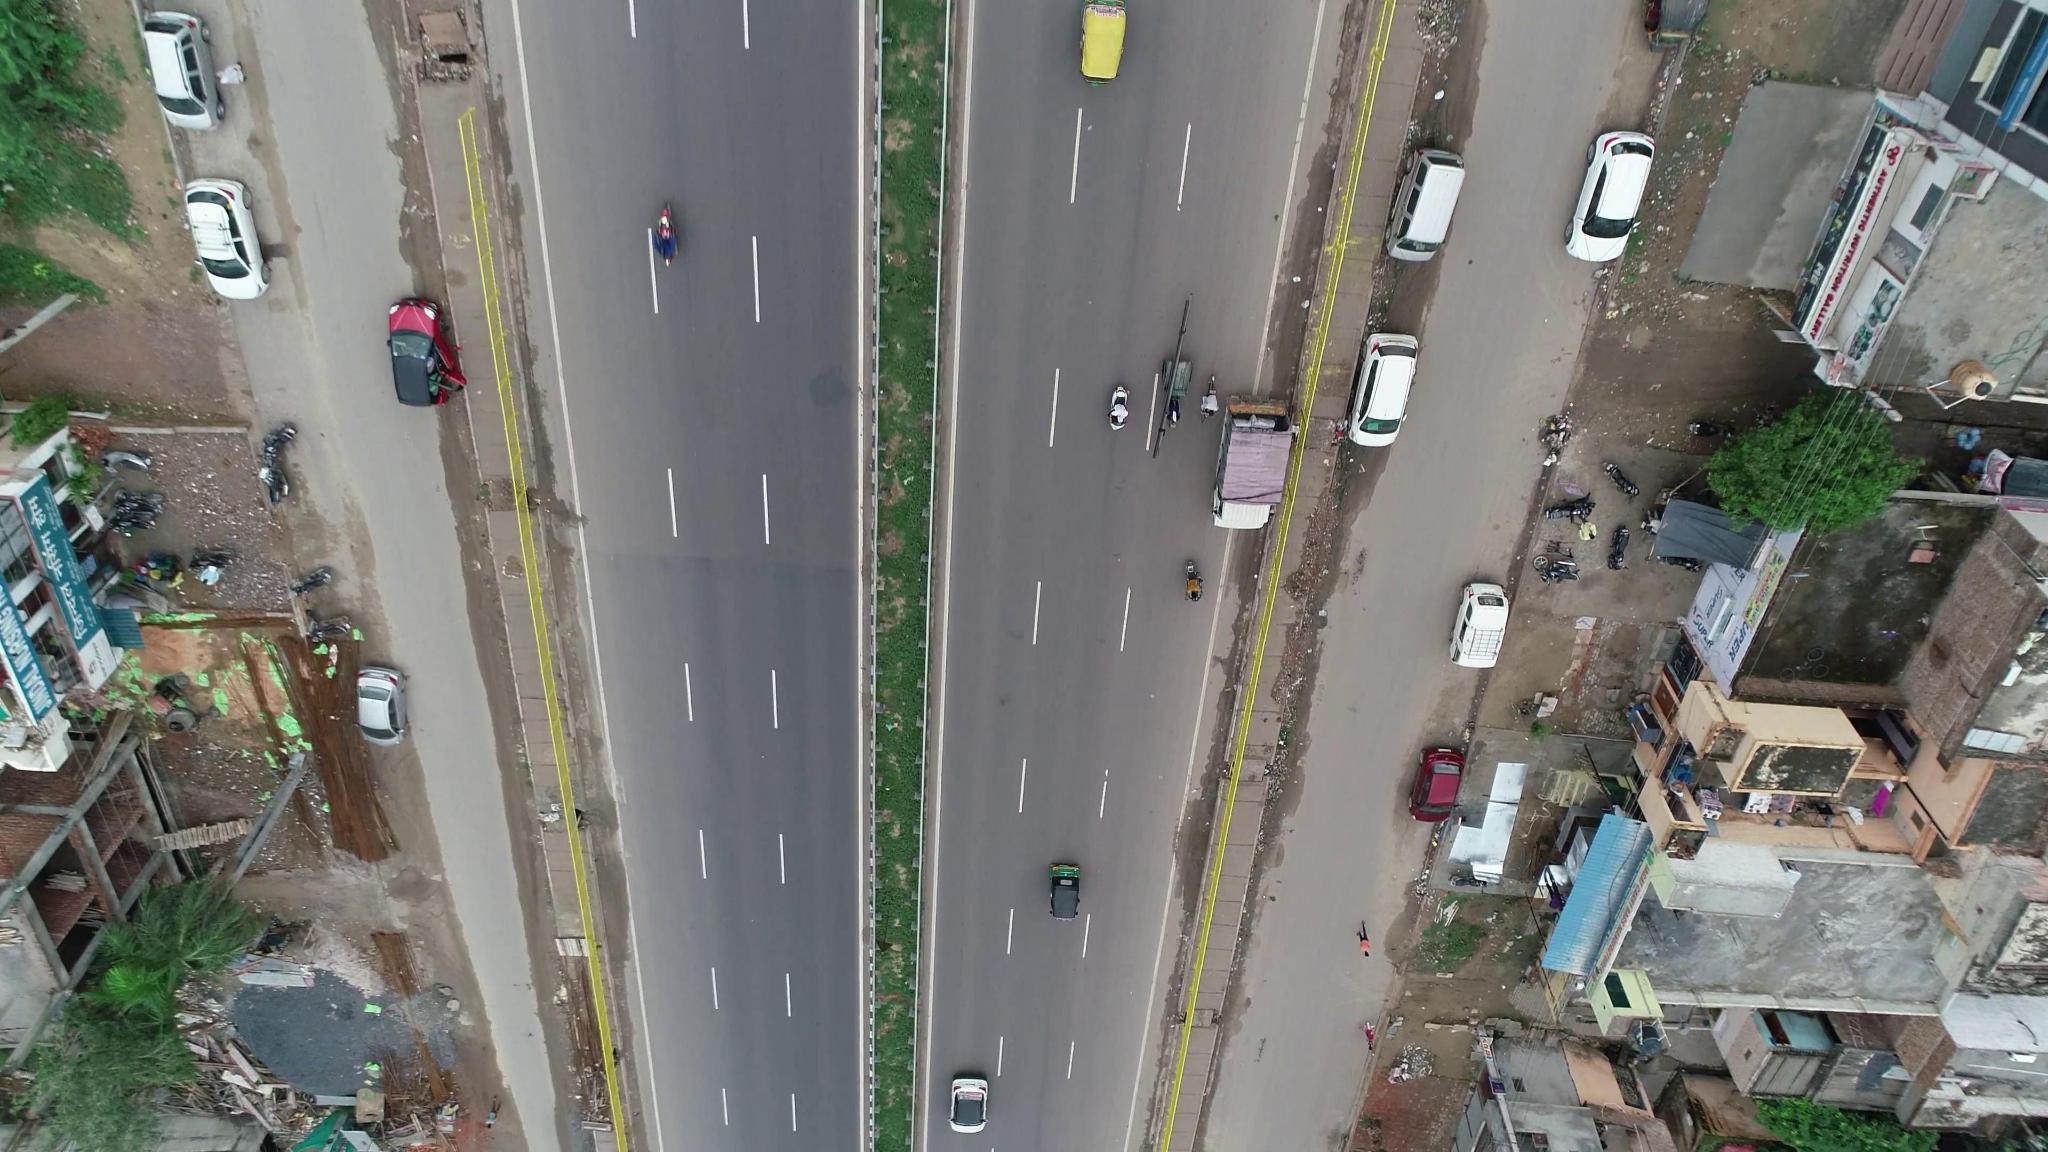Muddy_road: (452, 557, 516, 729)
